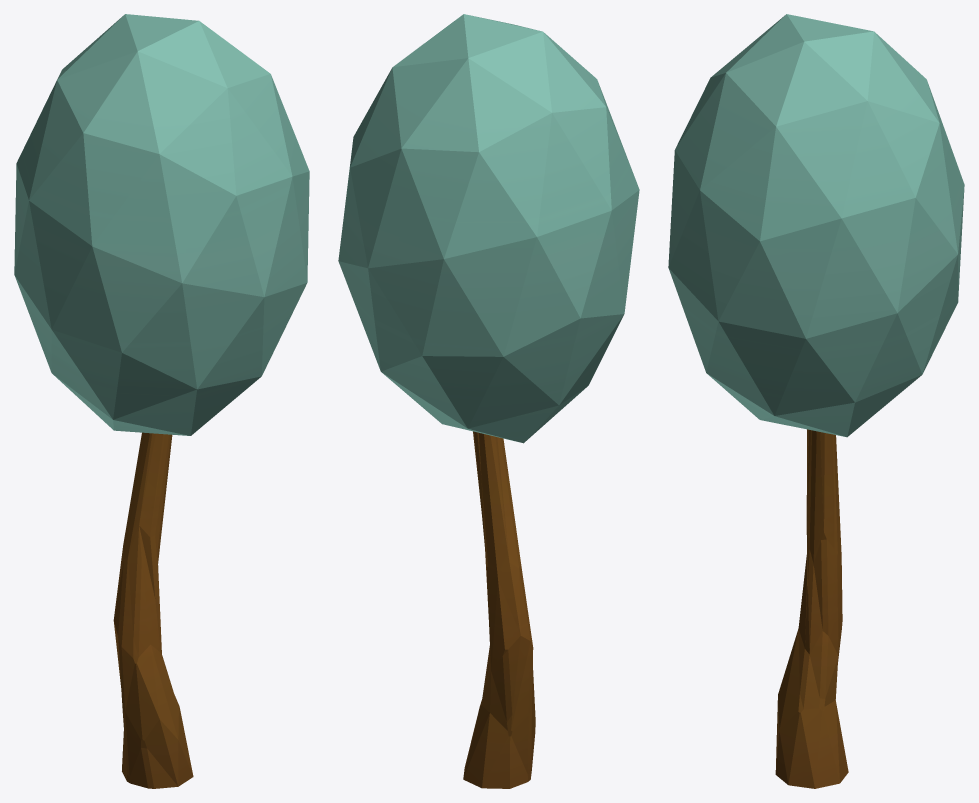
File: tree_poplar.glb
The picture shows the model from 3 angles, left to right: view 1: azimuth 30°, elevation 25°; view 2: azimuth 150°, elevation 25°; view 3: azimuth 270°, elevation 25°; orthographic projection.
Parts seen in each view (by area): view 1: tree_poplar; view 2: tree_poplar; view 3: tree_poplar.
Part boxes in pixels (left/top/right/bottom): tree_poplar: left=14, top=14, right=309, bottom=788; tree_poplar: left=338, top=14, right=639, bottom=788; tree_poplar: left=668, top=14, right=964, bottom=788.
Size of the model in its own units: 1.65 by 4.6 by 1.65.
1 material, 1 textured.
